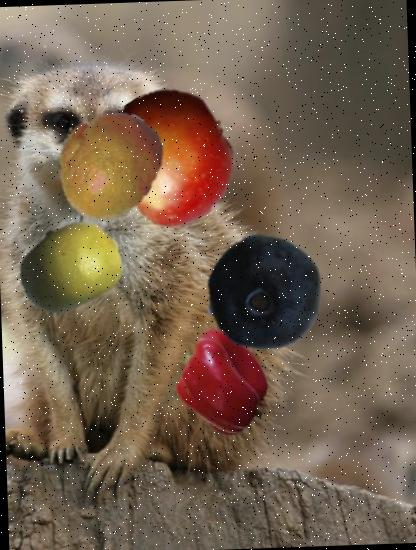Apple: (104, 83, 246, 226)
Blueberry: (206, 230, 328, 352)
Cactus: (204, 238, 320, 354)
Mandarine: (48, 105, 167, 224)
Pepper: (174, 332, 276, 434)
Pomelo: (14, 212, 124, 322)
